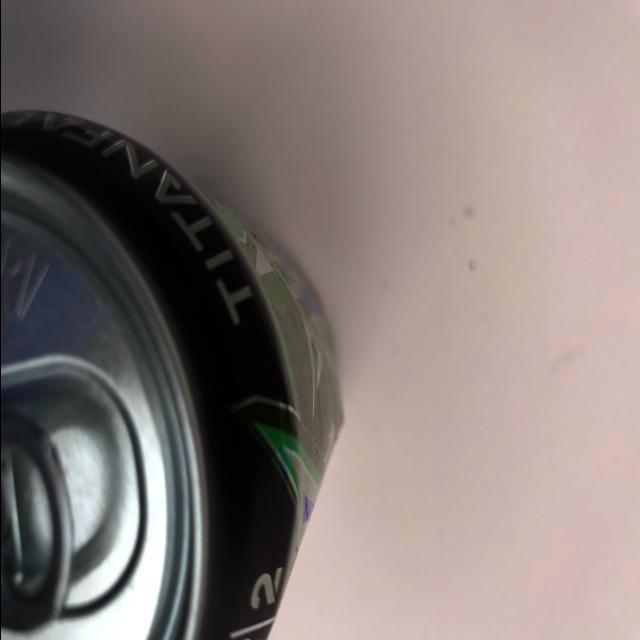metal: (0, 89, 380, 640)
